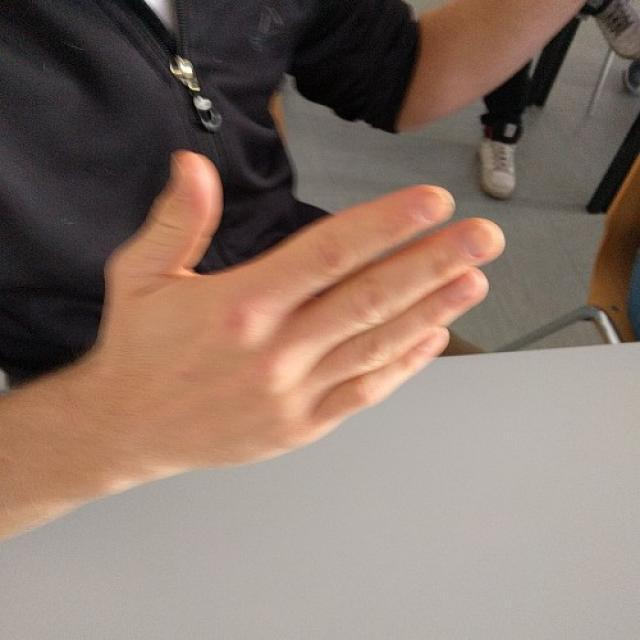paper: (98, 148, 504, 464)
